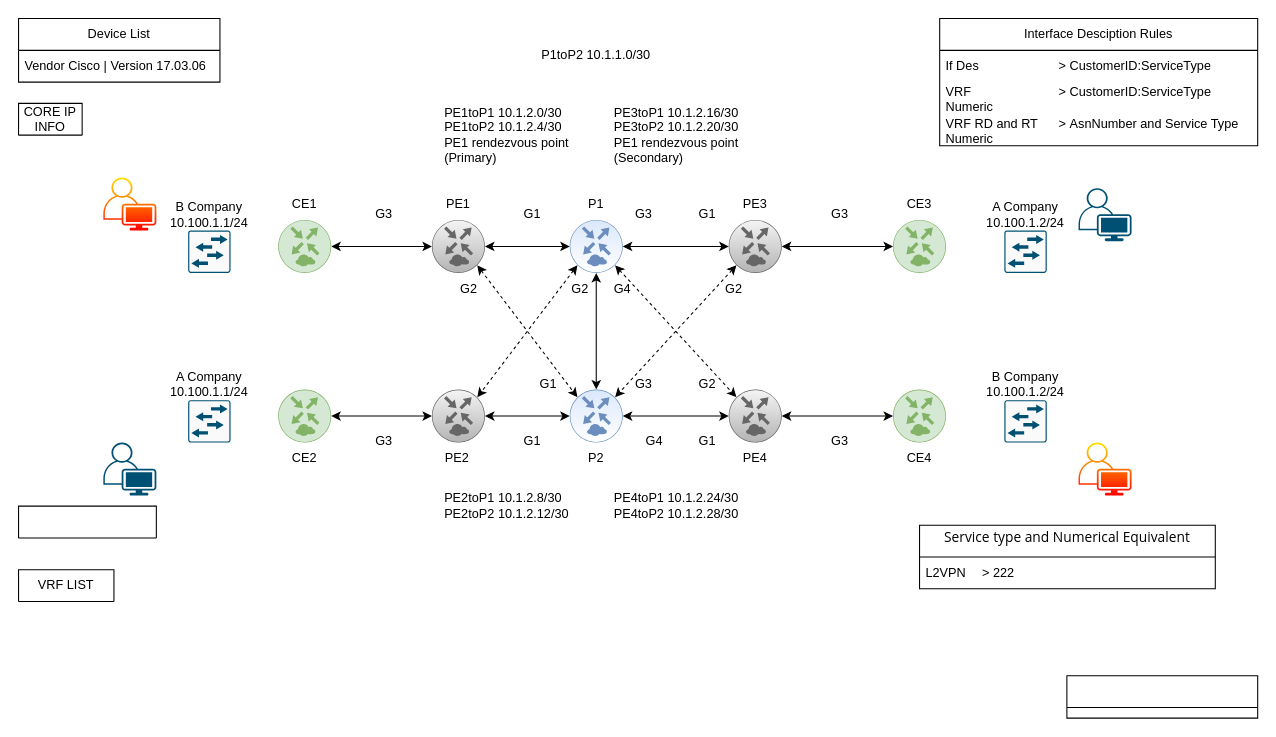
Some shapes in this 1276 by 737 pixel diagram are drawn without their labels. The shapes that lost their labels are listed below. From the top down, each one's centre as x and y in pixels, then its label:
At pixel 86 521: "iBGP and eBGP".
At pixel 1162 696: "Rendezvous Points Primary (P) Secondary (S)".
